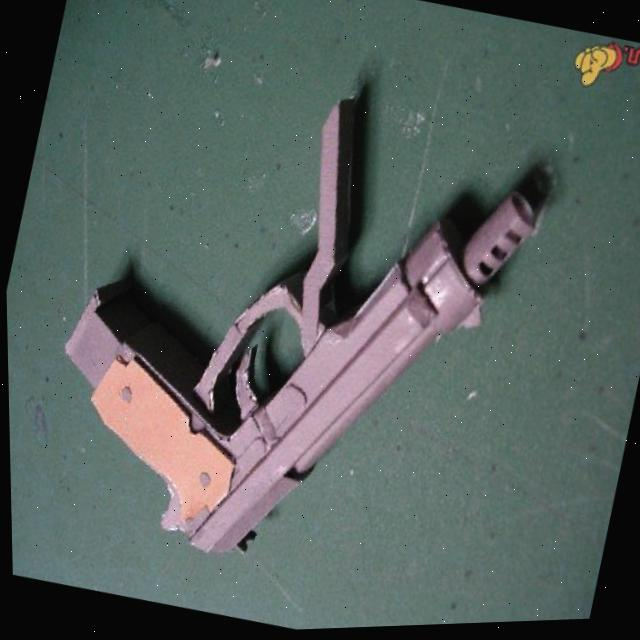pistol: (14, 34, 566, 621)
